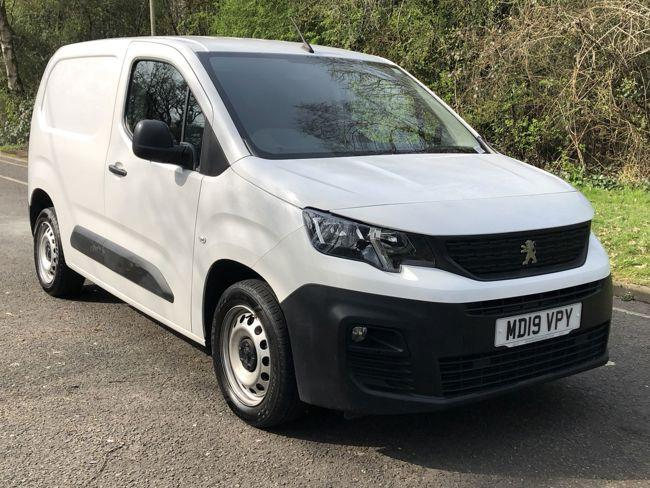van: (25, 35, 613, 427)
